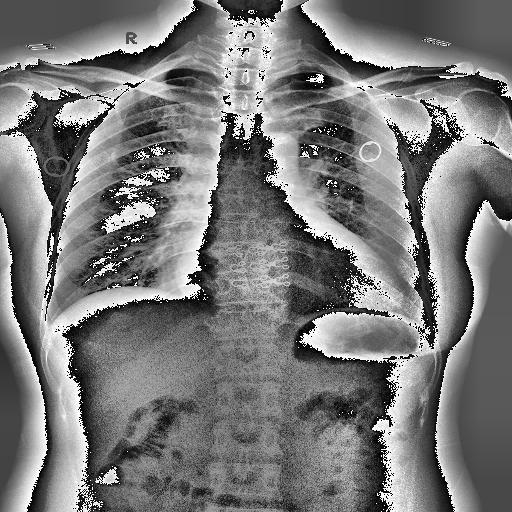13- Pulmonary fibrosis: (107, 145, 121, 163)
3- Cardiomegaly: (173, 218, 405, 317), (172, 232, 404, 314), (166, 242, 404, 320)
